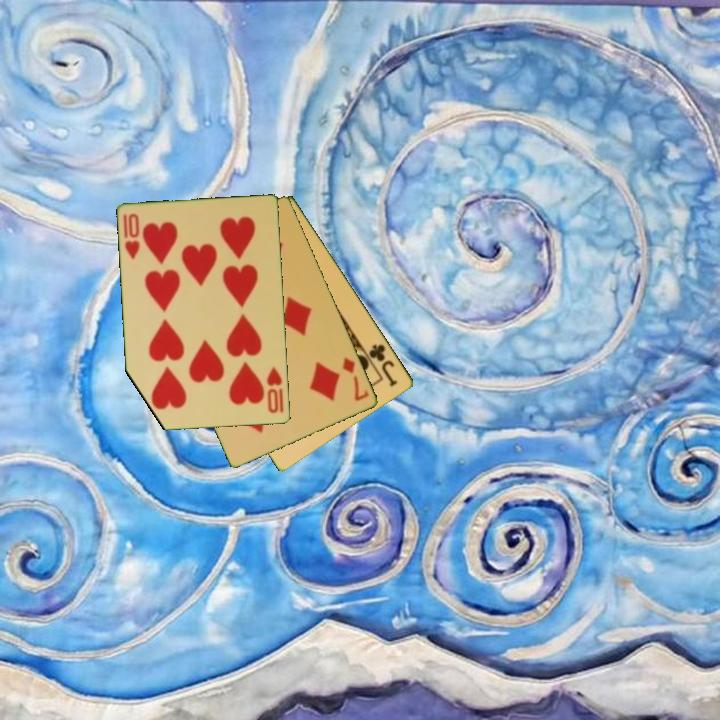10h: (264, 364, 287, 416), (120, 210, 143, 262)
7d: (339, 354, 372, 404)
Jc: (366, 341, 401, 390)
